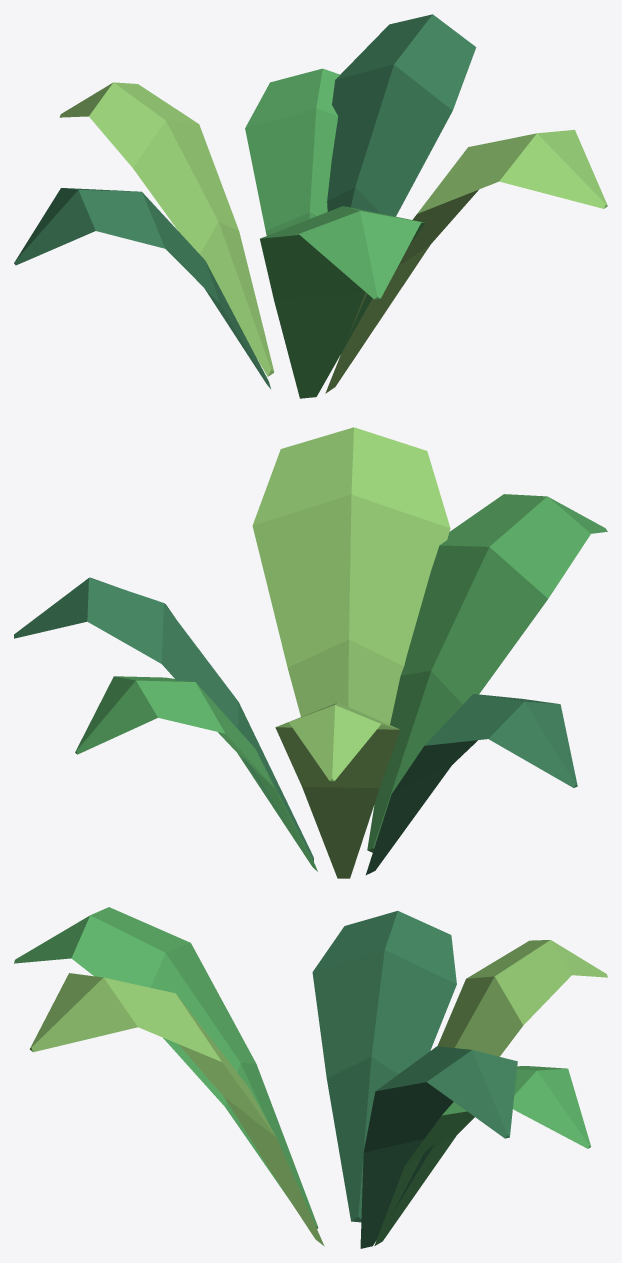
Rendered from plant_broadleaf_a.glb.
The picture shows the model from 3 angles, top to bottom: view 1: azimuth 30°, elevation 25°; view 2: azimuth 150°, elevation 25°; view 3: azimuth 270°, elevation 25°; orthographic projection.
Visible parts, largest first — view 1: PlantBroadleafA; view 2: PlantBroadleafA; view 3: PlantBroadleafA.
Boxes of the visible parts, left/top/right/bottom form: PlantBroadleafA: left=14, top=14, right=607, bottom=398; PlantBroadleafA: left=14, top=427, right=607, bottom=878; PlantBroadleafA: left=14, top=907, right=607, bottom=1248.
Bounding box in the file's own units: 1.06 × 0.6228 × 1.07.
